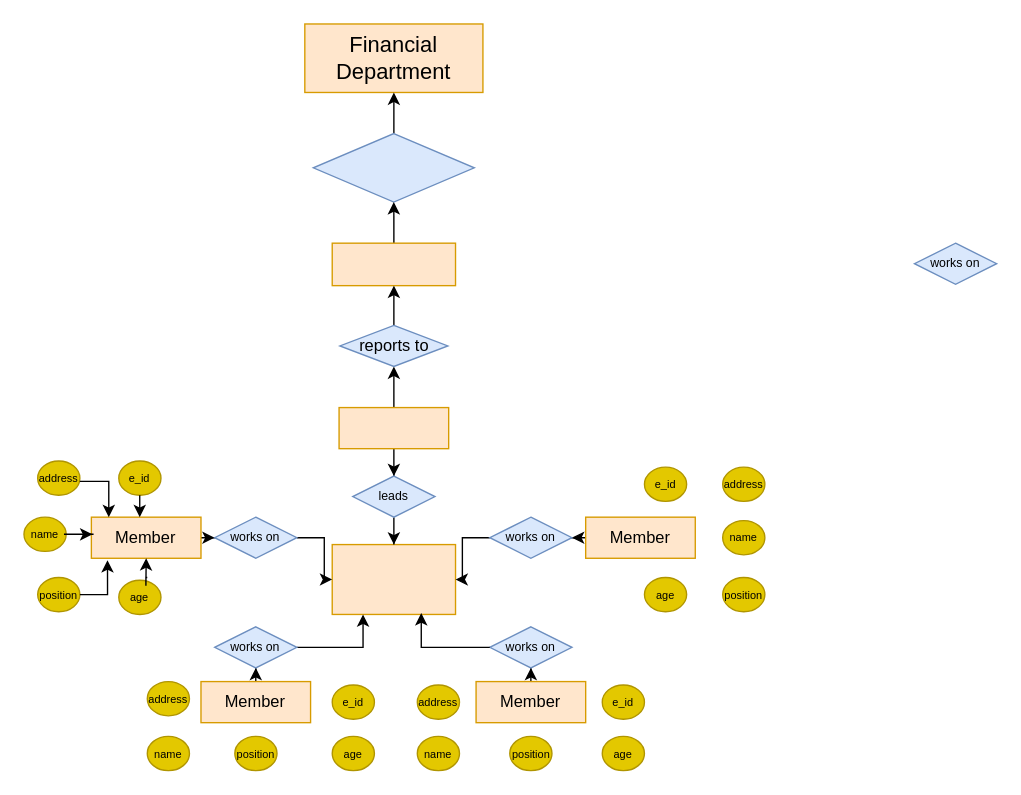
Some shapes in this 1021 by 795 pixel diagram are drawn without their labels. Here are the shapes that lost their labels. From the top down, the centre of each, then its label:
At pixel 393 167: "manages".
At pixel 393 264: "Chief Financial Officer".
At pixel 393 427: "Team Leader".
At pixel 393 578: "Digital Transformation of Past Records".
